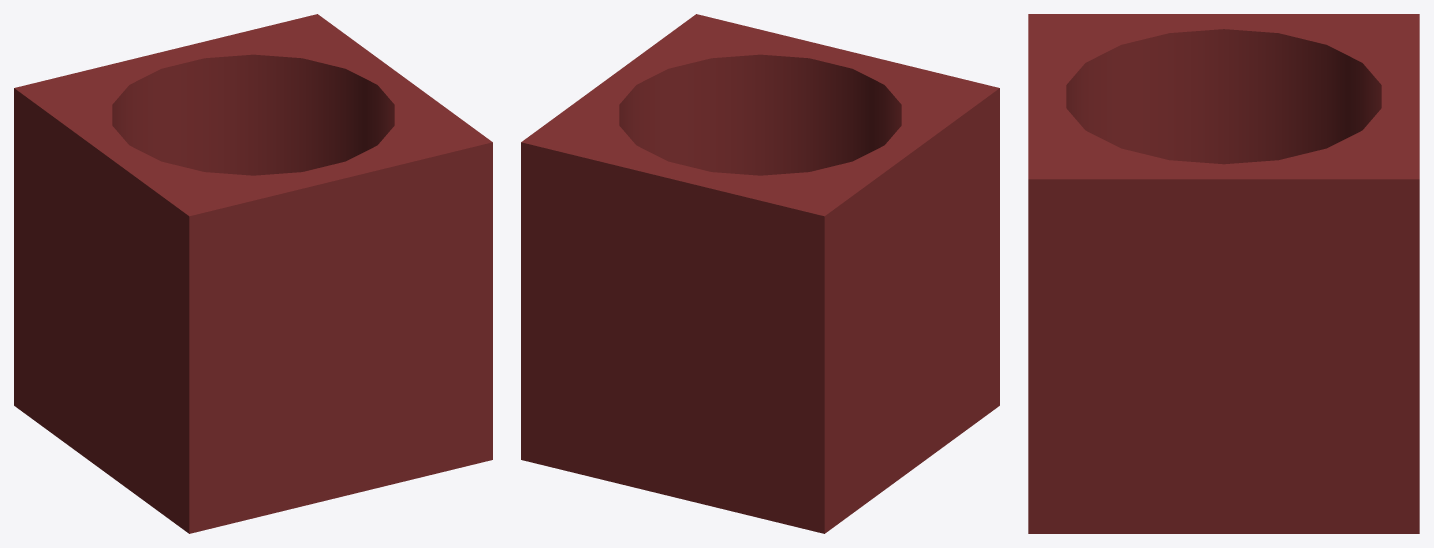
File: Hole.FBX
3 views of the same model, side by side, from view 1: azimuth 30°, elevation 25°; view 2: azimuth 150°, elevation 25°; view 3: azimuth 270°, elevation 25° (orthographic). The views are drawn at different scales.
Visible parts, largest first — view 1: Hole_Low; view 2: Hole_Low; view 3: Hole_Low.
Part boxes in pixels (bbox=[...]): Hole_Low: bbox=[14, 14, 492, 533]; Hole_Low: bbox=[521, 14, 999, 533]; Hole_Low: bbox=[1028, 14, 1419, 533].
Size of the model in its own units: 25 by 25 by 25.
